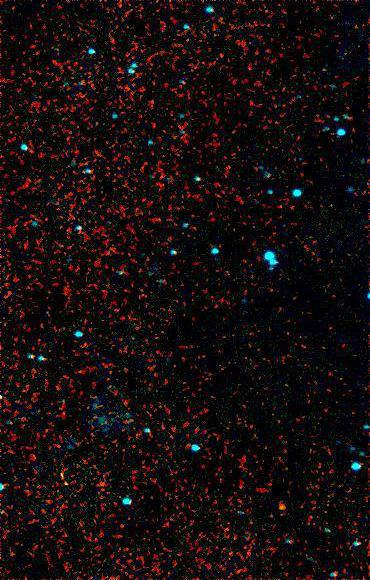star: (267, 493, 297, 523)
